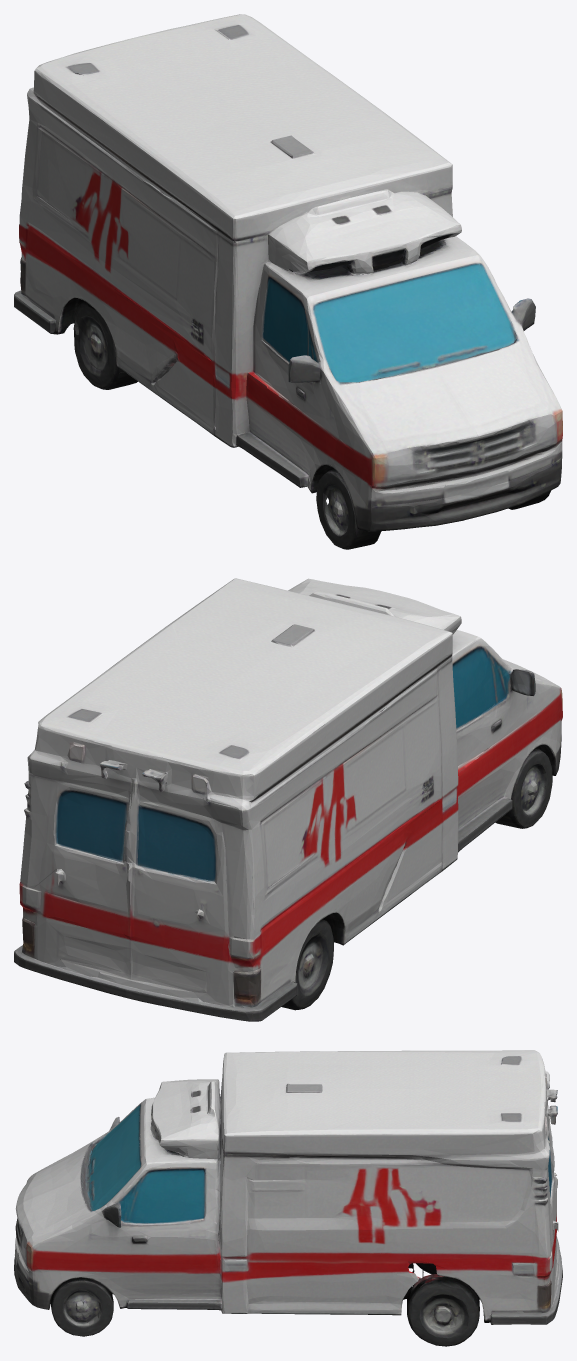
Rendered from ambulance.glb.
The picture shows the model from 3 angles, top to bottom: view 1: azimuth 30°, elevation 25°; view 2: azimuth 150°, elevation 25°; view 3: azimuth 270°, elevation 25°; orthographic projection. The views are drawn at different scales.
Visible parts, largest first — view 1: world; view 2: world; view 3: world.
Boxes of the visible parts, x1=… form: world: x1=14, y1=14, x2=562, y2=549; world: x1=14, y1=578, x2=562, y2=1021; world: x1=14, y1=1050, x2=562, y2=1346.
Size of the model in its own units: 0.4067 by 0.442 by 1.
Materials: 1 (1 with a texture image).
